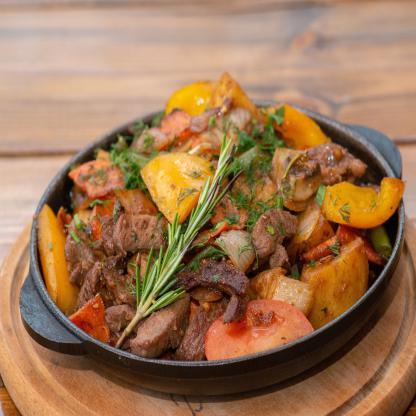Carne: (74, 234, 132, 308), (132, 294, 188, 363), (181, 260, 249, 310), (178, 286, 221, 358), (298, 145, 369, 179), (253, 205, 299, 254), (111, 214, 169, 250)
